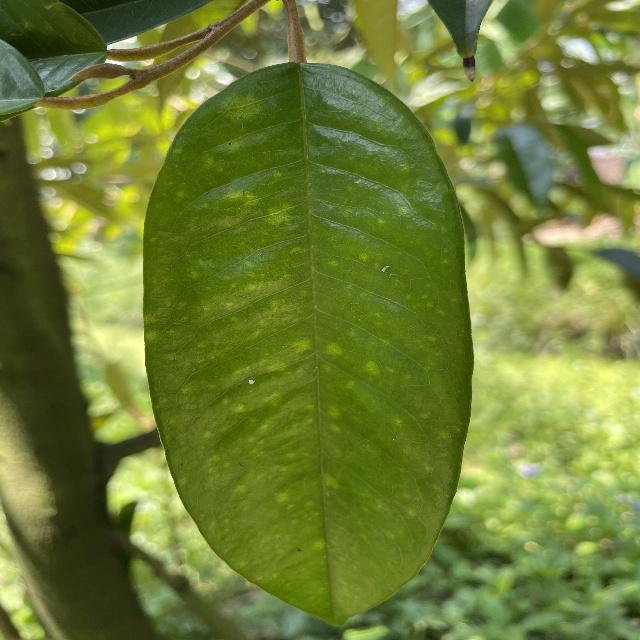Leaf Spot: (129, 49, 483, 629)
